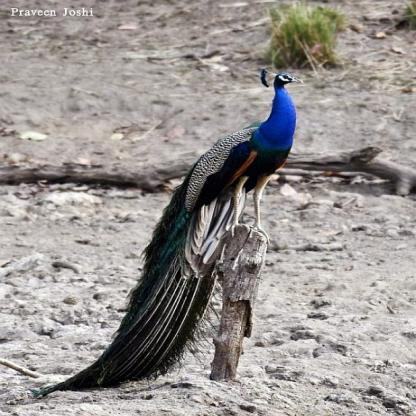Burung: (36, 69, 301, 395)
